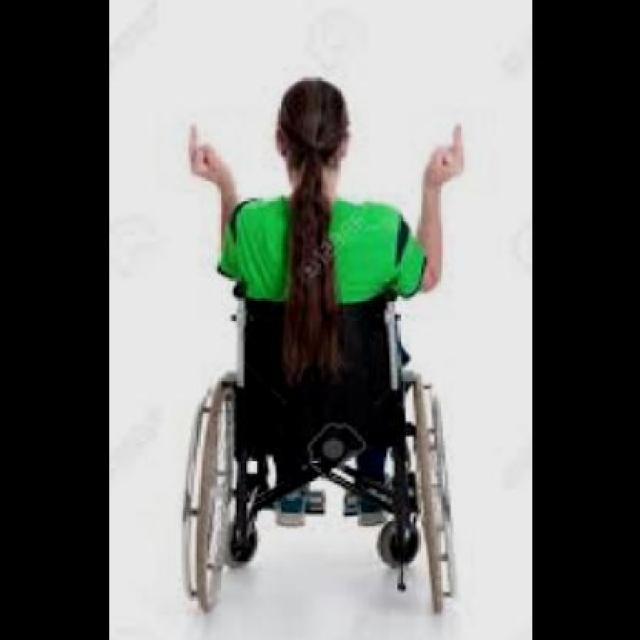wheelchairs: (167, 276, 488, 626)
